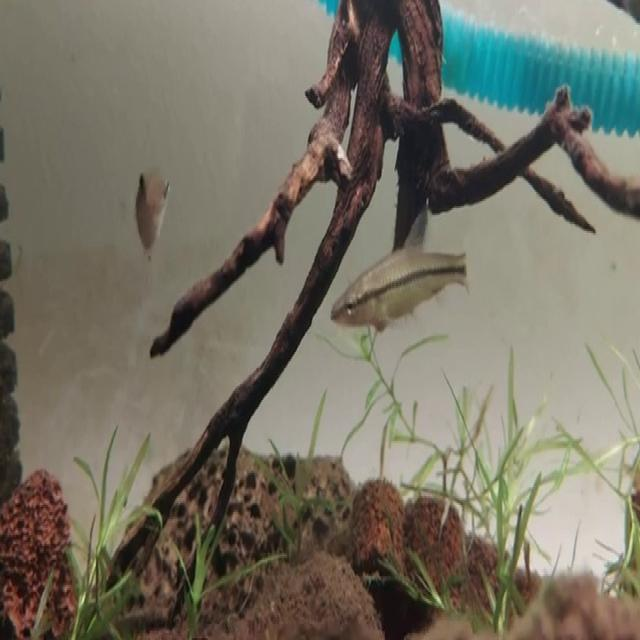Cakil Baligi: (326, 195, 468, 336), (123, 141, 178, 275)
